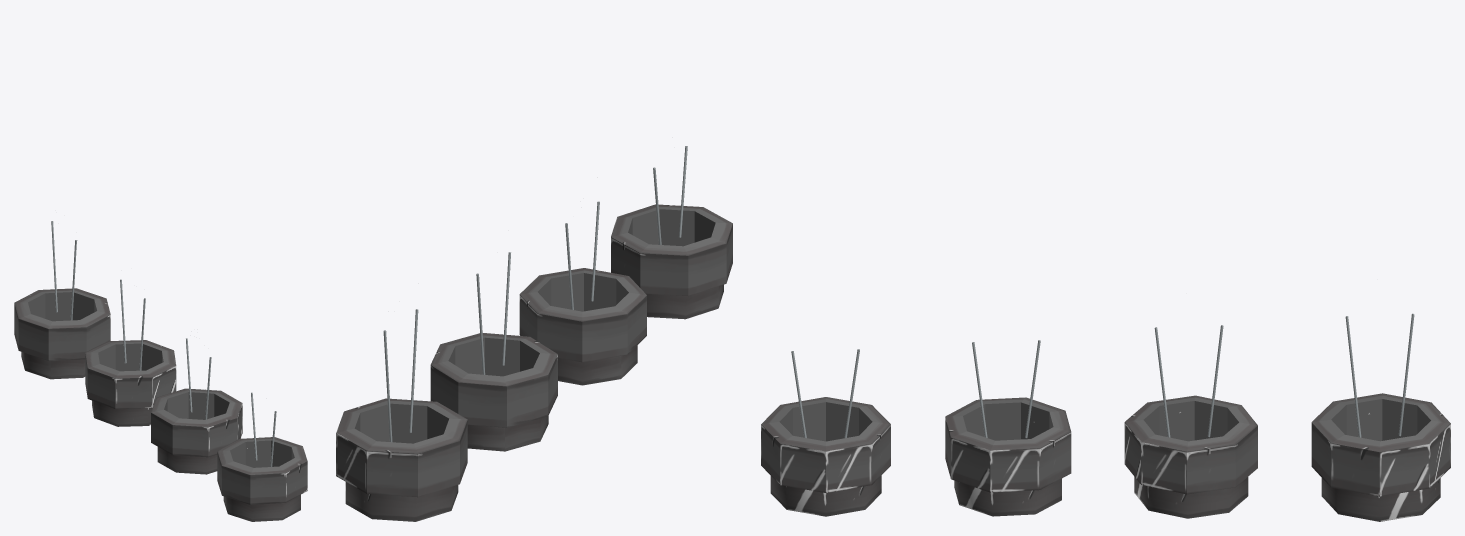
File: SteamGauge.fbx
The picture shows the model from 3 angles, left to right: view 1: azimuth 30°, elevation 25°; view 2: azimuth 150°, elevation 25°; view 3: azimuth 270°, elevation 25°; orthographic projection. The views are drawn at different scales.
Parts seen in each view (by area): view 1: Base_D, Base_A, Base_C, Base_B; view 2: Base_D, Base_C, Base_B, Base_A; view 3: Base_D, Base_C, Base_A, Base_B.
Part boxes in pixels (box(x1,y1,x2,y2)): Base_D: box(14, 288, 110, 379); Base_A: box(217, 437, 307, 521); Base_C: box(85, 340, 176, 426); Base_B: box(151, 388, 242, 474); Base_D: box(336, 398, 467, 521); Base_C: box(430, 333, 557, 451); Base_B: box(519, 268, 646, 385); Base_A: box(611, 204, 732, 319); Base_D: box(1311, 393, 1450, 521); Base_C: box(1124, 395, 1257, 518); Base_A: box(761, 397, 890, 516); Base_B: box(945, 397, 1071, 516).
Size of the model in its own units: 2.15 by 8.21 by 10.62.
Materials: 1 (1 with a texture image).
